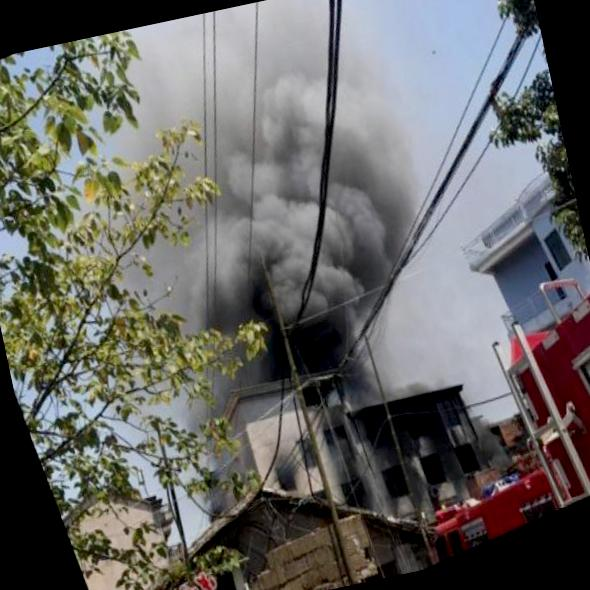smoke: (252, 186, 408, 360), (182, 84, 321, 251), (111, 5, 265, 143), (286, 71, 419, 211), (223, 0, 358, 108), (157, 220, 260, 335)
